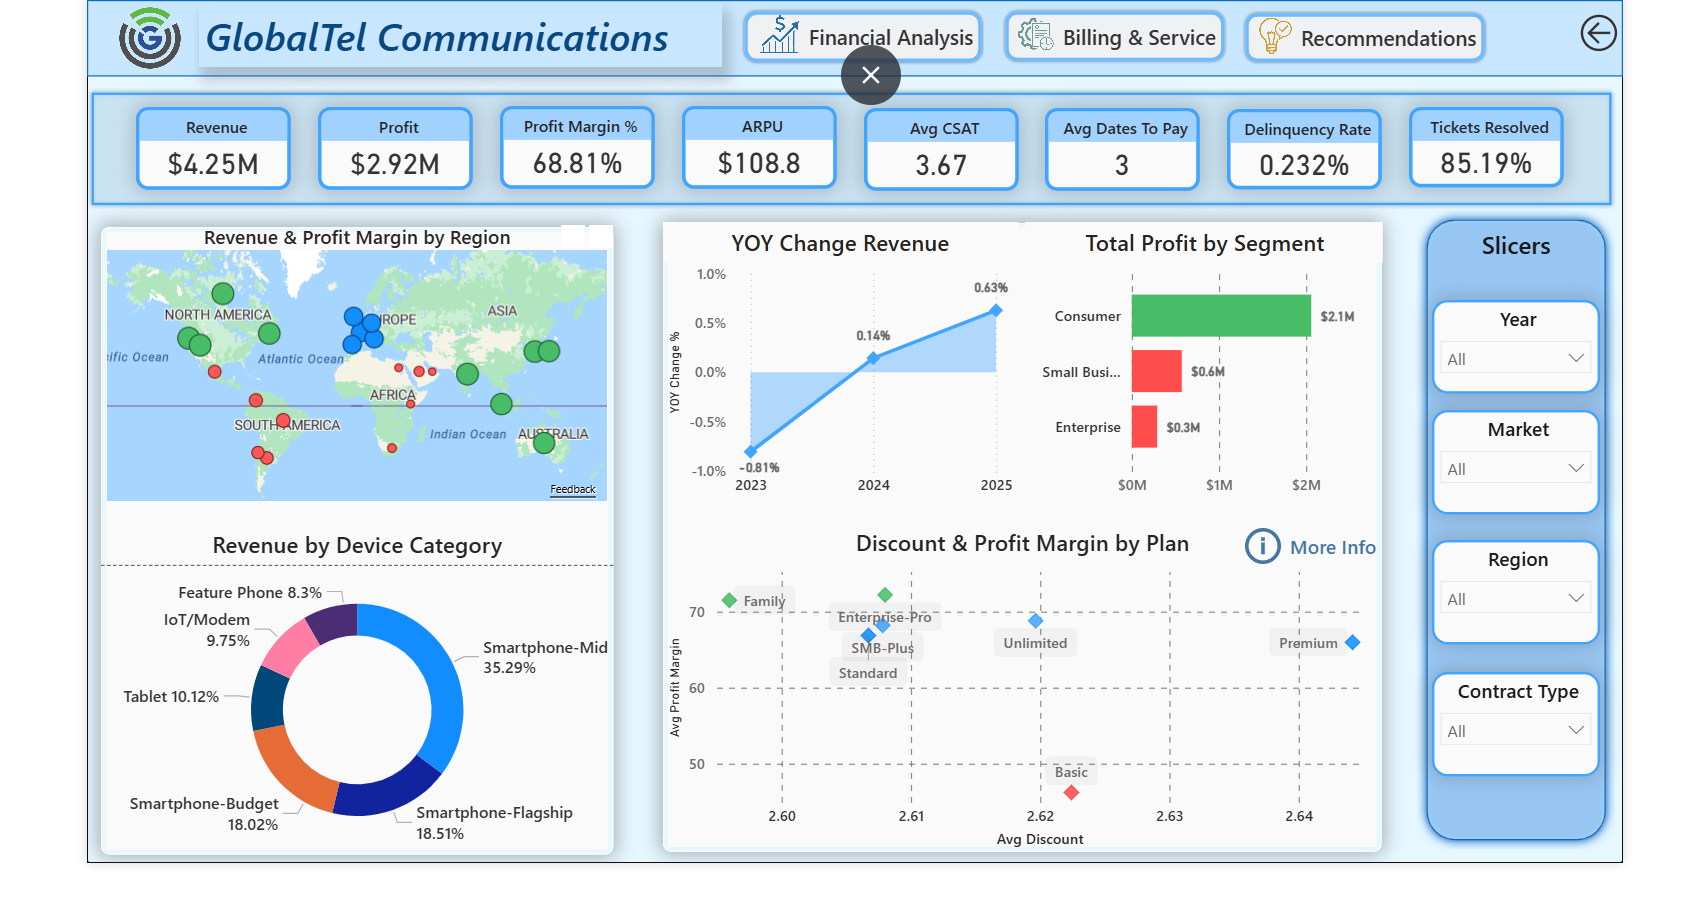

Layout of this report page (visuals, bound fields, positions):
{"tool":"powerbi","page":{"name":"Financial Analysis","canvas":[1280,720],"ordinal":1},"visuals":[{"type":"shape","box":[11.7,190,426.7,523.3],"z":0},{"type":"shape","box":[480,186.2,598.8,523.8],"z":1000},{"type":"shape","box":[0,0.5,1280,63.8],"z":2000},{"type":"shape","box":[0,74.3,1274.3,101.4],"z":3000},{"type":"card","title":"Profit Margin %","fields":{"Values":["Measure Table.Profit Margin %"]},"box":[343.8,89,128.6,68.6],"z":4000},{"type":"card","title":"ARPU","fields":{"Values":["Measure Table.ARPU"]},"box":[495.5,89.4,128.6,68.6],"z":5000},{"type":"card","title":"Profit","fields":{"Values":["Measure Table.Total Profit"]},"box":[192.2,89.8,128.6,68.6],"z":6000},{"type":"card","title":"Revenue","fields":{"Values":["Measure Table.Total Revenue"]},"box":[40.6,90.2,128.6,68.6],"z":7000},{"type":"card","title":"Avg Dates To Pay","fields":{"Values":["Measure Table.Avg DaysToPay"]},"box":[798.7,90.6,128.6,68.6],"z":8000},{"type":"card","title":"Delinquency Rate","fields":{"Values":["Measure Table.Delinquency_Rate"]},"box":[950.4,91.4,128.6,67.1],"z":9000},{"type":"card","title":"Avg CSAT","fields":{"Values":["Measure Table.Avg CSAT"]},"box":[647.1,91,128.6,68.6],"z":10000},{"type":"card","title":"Tickets Resolved","fields":{"Values":["Measure Table.Tickets Resolved %"]},"box":[1102,90.4,128.6,67.1],"z":11000},{"type":"scatterChart","title":"Discount & Profit Margin by Plan","fields":{"X":["Avg(Telecom_Usage_Fact.Discount)"],"Y":["Telecom_Usage_Fact.ProfitMarginPct"],"Category":["Telecom_Usage_Fact.Plan"]},"box":[480.2,435.5,599.6,275.1],"z":12000},{"type":"donutChart","title":"Revenue by Device Category","fields":{"Y":["Measure Table.Total Revenue"],"Category":["Telecom_Usage_Fact.DeviceCategory"]},"box":[12.1,437.5,427.1,273.9],"z":13000},{"type":"barChart","fields":{"Category":["Telecom_Customers.Segment"],"Y":["Measure Table.Total Profit"]},"box":[781.8,185.8,298,236.5],"z":14000},{"type":"azureMap","title":"Revenue & Profit Margin by Region","fields":{"Category":["Telecom_Usage_Fact.Region"],"Size":["Measure Table.Total Revenue"]},"box":[12.1,187.7,427.1,236.5],"z":15000},{"type":"areaChart","title":"YOY Change Revenue","fields":{"Y":["Measure Table.YOY Change %"],"Category":["Calendar Table.Year"]},"box":[480.2,185.8,295.6,236.5],"z":16000},{"type":"shape","title":"Slicers","box":[1108.7,176.1,165.3,533.2],"z":17000},{"type":"slicer","title":"Market","fields":{"Values":["Telecom_Usage_Fact.Market"]},"box":[1120.8,342.6,139.9,86.9],"z":18000},{"type":"slicer","title":"Year","fields":{"Values":["Calendar Table.Year"]},"box":[1120.8,250.9,139.9,78.4],"z":19000},{"type":"slicer","title":"Region","fields":{"Values":["Telecom_Customers.Region"]},"box":[1120.8,451.2,139.9,86.9],"z":20000},{"type":"slicer","title":"Contract Type","fields":{"Values":["Telecom_Usage_Fact.ContractType"]},"box":[1120.8,561,139.9,86.9],"z":21000},{"type":"actionButton","box":[960,435.7,118.6,40],"z":22000},{"type":"actionButton","box":[544.8,7.6,203.3,47.8],"z":23000},{"type":"actionButton","box":[762.7,7.8,188,47],"z":24000},{"type":"actionButton","box":[962.7,8.8,205,46],"z":25000},{"type":"image","box":[514.8,-0.1,116.7,63.3],"z":26000},{"type":"image","box":[941.7,2.8,76,63],"z":27000},{"type":"image","box":[762.7,2.8,56,58],"z":28000},{"type":"actionButton","box":[1173.8,7.7,106.2,41.5],"z":29000},{"type":"image","box":[0,0,104.7,65.9],"z":30000},{"type":"textbox","box":[93.4,3.6,436.2,53.1],"z":31000}]}

Visuals, with their boxes on the page's 1280x720 design canvas (x1, y1, x2, y2). These are canvas units, not pixel positions in the 1690x910 screenshot, which may show the page scaled, cropped or inside an application window:
shape: 12,190,438,713
shape: 480,186,1079,710
shape: 0,0,1280,64
shape: 0,74,1274,176
"Profit Margin %" card: 344,89,472,158
"ARPU" card: 496,89,624,158
"Profit" card: 192,90,321,158
"Revenue" card: 41,90,169,159
"Avg Dates To Pay" card: 799,91,927,159
"Delinquency Rate" card: 950,91,1079,158
"Avg CSAT" card: 647,91,776,160
"Tickets Resolved" card: 1102,90,1231,158
"Discount & Profit Margin by Plan" scatterChart: 480,436,1080,711
"Revenue by Device Category" donutChart: 12,438,439,711
barChart - Telecom_Customers.Segment x Measure Table.Total Profit: 782,186,1080,422
"Revenue & Profit Margin by Region" azureMap: 12,188,439,424
"YOY Change Revenue" areaChart: 480,186,776,422
"Slicers" shape: 1109,176,1274,709
"Market" slicer: 1121,343,1261,430
"Year" slicer: 1121,251,1261,329
"Region" slicer: 1121,451,1261,538
"Contract Type" slicer: 1121,561,1261,648
actionButton: 960,436,1079,476
actionButton: 545,8,748,55
actionButton: 763,8,951,55
actionButton: 963,9,1168,55
image: 515,0,632,63
image: 942,3,1018,66
image: 763,3,819,61
actionButton: 1174,8,1280,49
image: 0,0,105,66
textbox: 93,4,530,57
